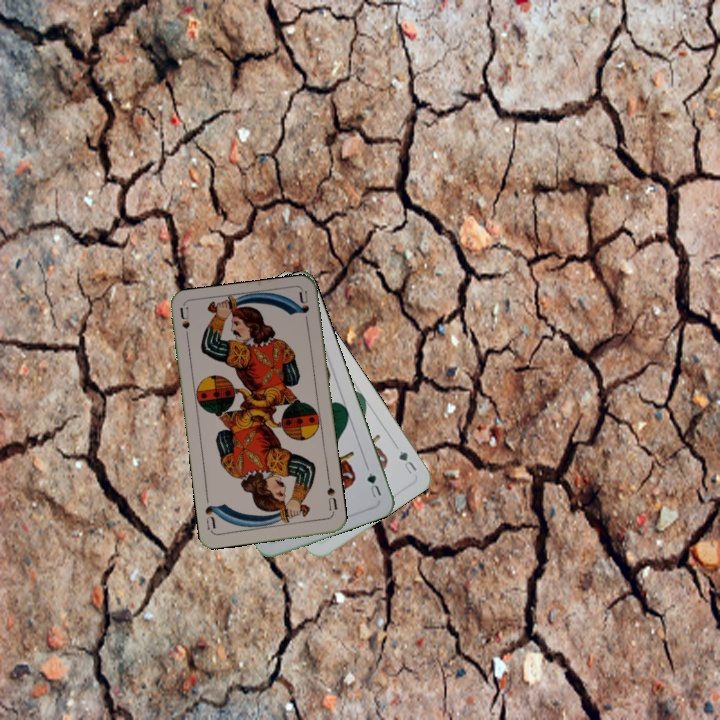GU: (395, 446, 419, 478), (363, 469, 384, 501)
SU: (323, 476, 340, 517), (176, 304, 192, 345)
